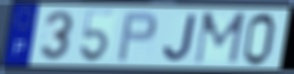0: (242, 12, 279, 67)
3: (38, 9, 75, 62)
5: (78, 8, 120, 64)
J: (161, 13, 199, 63)
M: (192, 11, 248, 66)
P: (115, 11, 159, 63)
